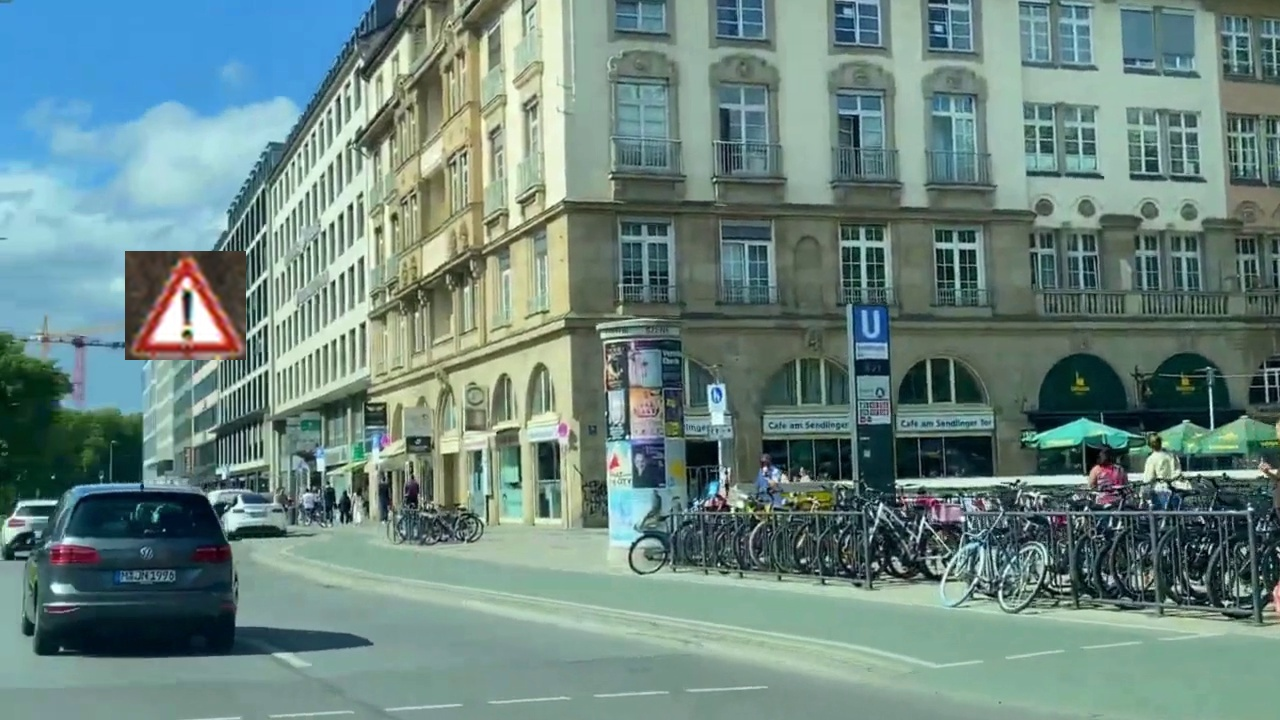Caution: (125, 251, 246, 360)
